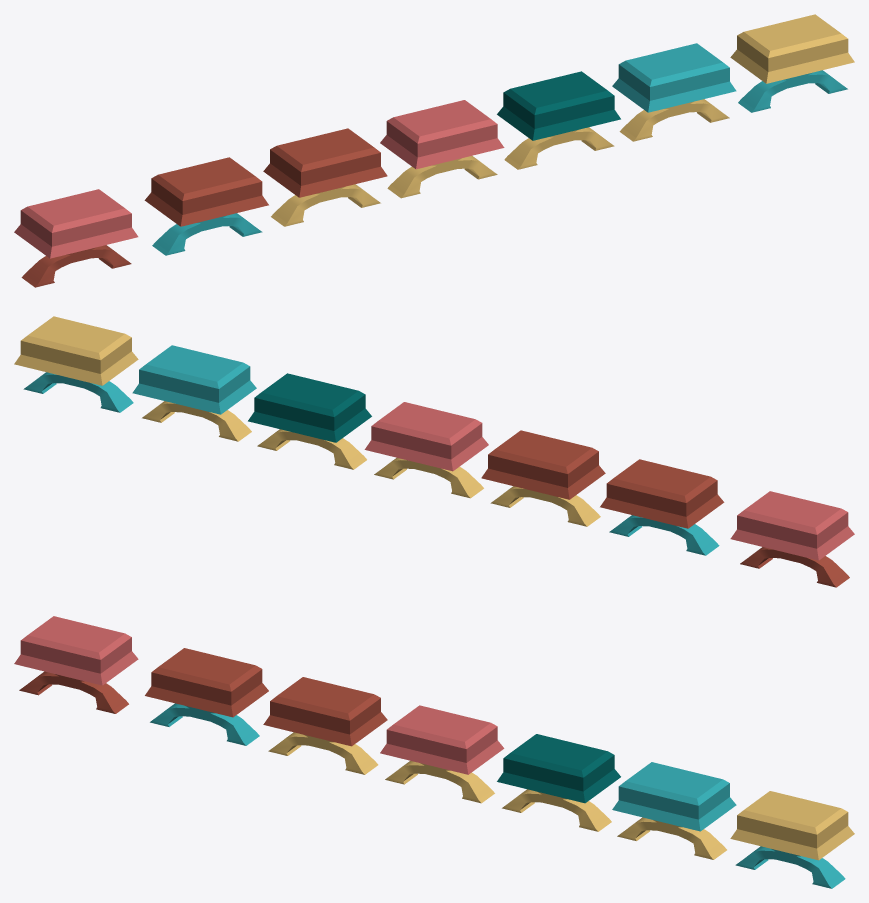
Rendered from banquinhos.fbx.
The picture shows the model from 3 angles, top to bottom: view 1: azimuth 30°, elevation 25°; view 2: azimuth 150°, elevation 25°; view 3: azimuth 330°, elevation 25°; orthographic projection.
Parts seen in each view (by area): view 1: pCube18, pCube19, pCube23, pCube20, pCube22, pCube17, pCube21; view 2: pCube18, pCube17, pCube22, pCube23, pCube19, pCube20, pCube21; view 3: pCube18, pCube19, pCube20, pCube17, pCube22, pCube23, pCube21.
Part boxes in pixels (x1=…): pCube18: x1=612, y1=43, x2=736, y2=141; pCube19: x1=497, y1=71, x2=620, y2=169; pCube23: x1=14, y1=189, x2=138, y2=287; pCube20: x1=380, y1=100, x2=504, y2=198; pCube22: x1=144, y1=157, x2=268, y2=255; pCube17: x1=730, y1=14, x2=854, y2=112; pCube21: x1=263, y1=128, x2=387, y2=226; pCube18: x1=132, y1=345, x2=256, y2=441; pCube17: x1=14, y1=316, x2=138, y2=412; pCube22: x1=600, y1=459, x2=724, y2=555; pCube23: x1=730, y1=491, x2=854, y2=587; pCube19: x1=248, y1=373, x2=371, y2=469; pCube20: x1=364, y1=402, x2=488, y2=498; pCube21: x1=481, y1=430, x2=605, y2=526; pCube18: x1=612, y1=762, x2=736, y2=859; pCube19: x1=497, y1=734, x2=620, y2=831; pCube20: x1=380, y1=705, x2=504, y2=803; pCube17: x1=730, y1=791, x2=854, y2=888; pCube22: x1=145, y1=648, x2=268, y2=745; pCube23: x1=14, y1=616, x2=138, y2=713; pCube21: x1=263, y1=677, x2=387, y2=774.
Bounding box in the file's own units: 22.96 × 1.68 × 1.77.
Materials: 5 (5 with a texture image).
